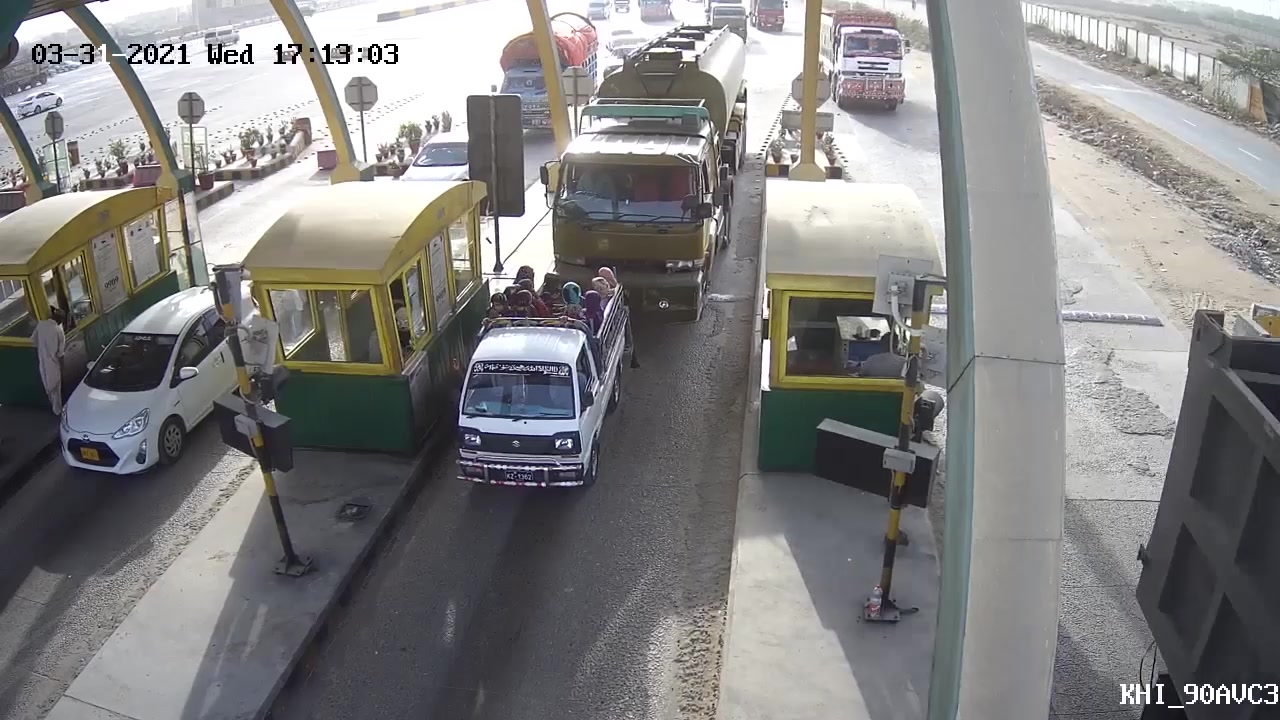F6: (545, 13, 756, 322)
d: (421, 261, 634, 513)
